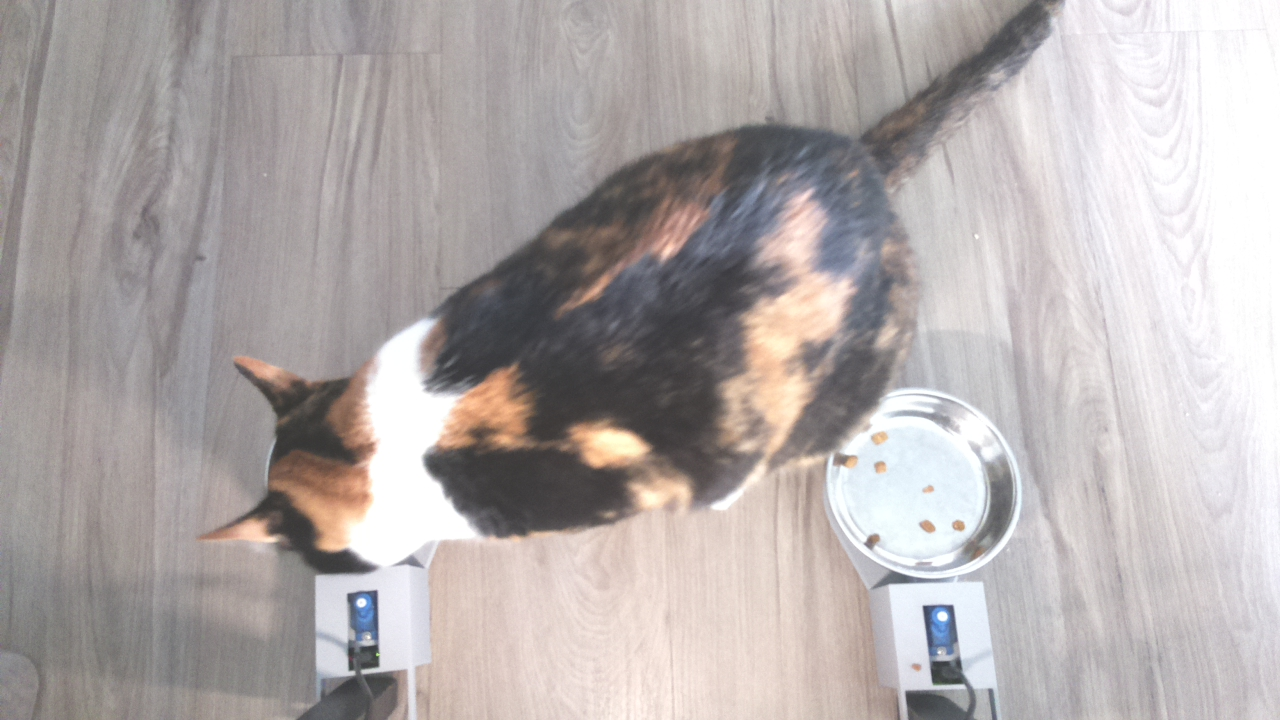bella_eating: (192, 328, 475, 585)
open_bowl: (825, 383, 1021, 577)
